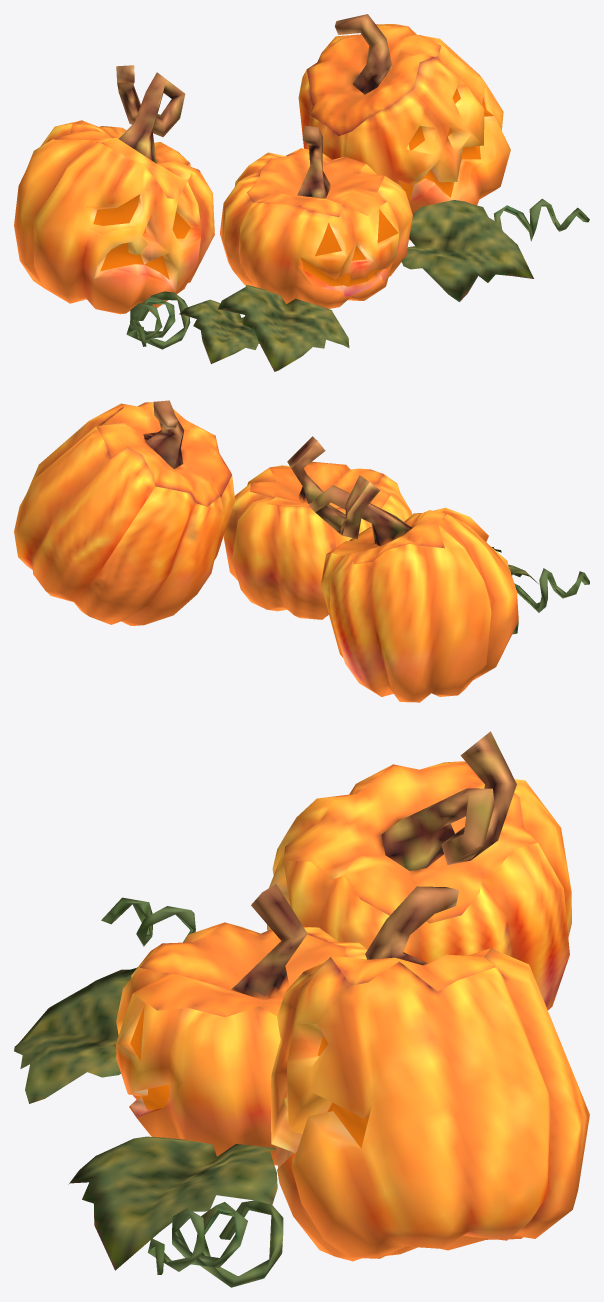
3 views of the same model, one above another, from view 1: azimuth 30°, elevation 25°; view 2: azimuth 150°, elevation 25°; view 3: azimuth 270°, elevation 25° (orthographic). The views are drawn at different scales.
Parts seen in each view (by area): view 1: CarvedPumpkinCluster; view 2: CarvedPumpkinCluster; view 3: CarvedPumpkinCluster.
Part boxes in pixels (bbox=[...]): CarvedPumpkinCluster: bbox=[14, 14, 589, 371]; CarvedPumpkinCluster: bbox=[14, 400, 589, 702]; CarvedPumpkinCluster: bbox=[14, 731, 589, 1287].
Size of what is drawn, in the model's own units: 1.67 by 0.7317 by 1.11.
2 materials, 2 textured.
